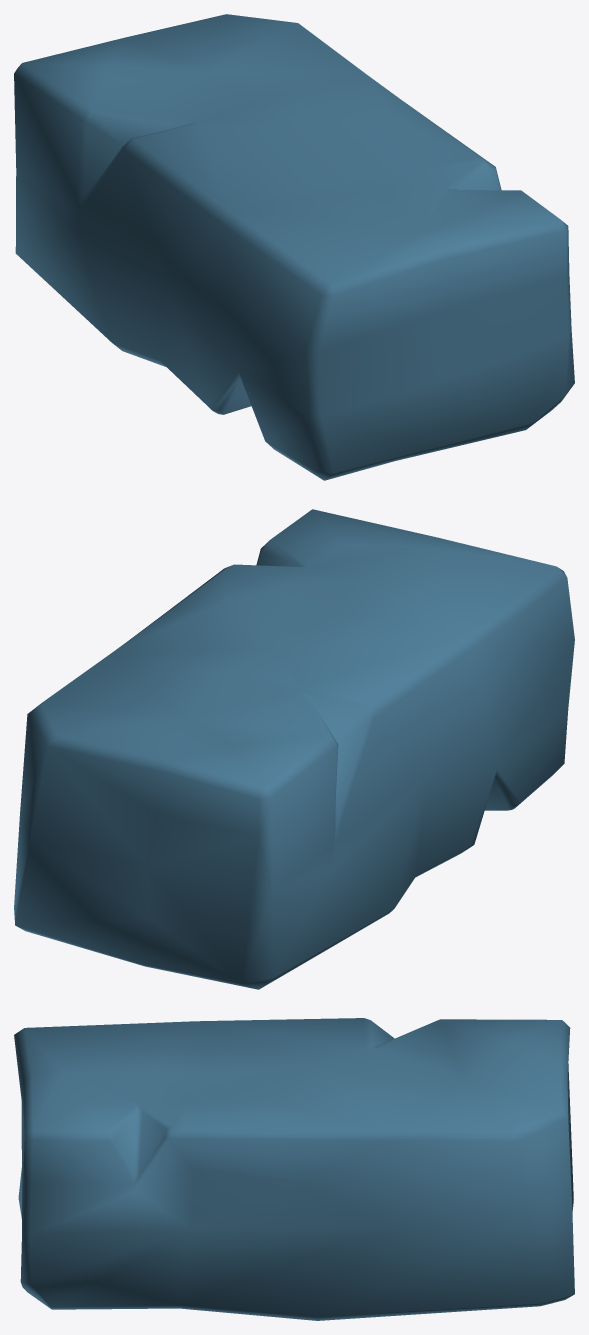
Rendered from brick.fbx.
3 views of the same model, one above another, from view 1: azimuth 30°, elevation 25°; view 2: azimuth 150°, elevation 25°; view 3: azimuth 270°, elevation 25° (orthographic). The views are drawn at different scales.
Visible parts, largest first — view 1: brick; view 2: brick; view 3: brick.
Boxes of the visible parts, left/top/right/bottom form: brick: left=14, top=14, right=574, bottom=480; brick: left=14, top=509, right=574, bottom=989; brick: left=14, top=1018, right=574, bottom=1320.
Size of the model in its own units: 43.49 by 32.26 by 81.26.
